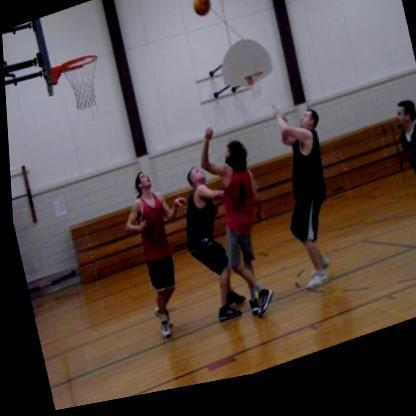basketball: (186, 0, 211, 27)
